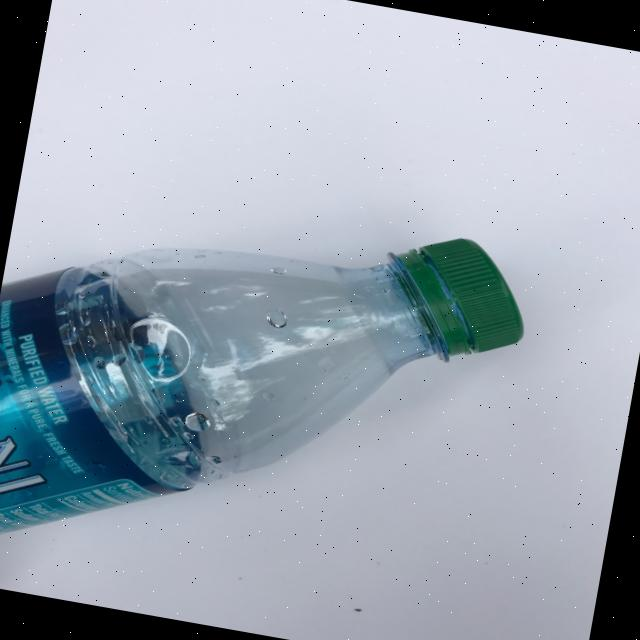plastic: (0, 158, 538, 629)
